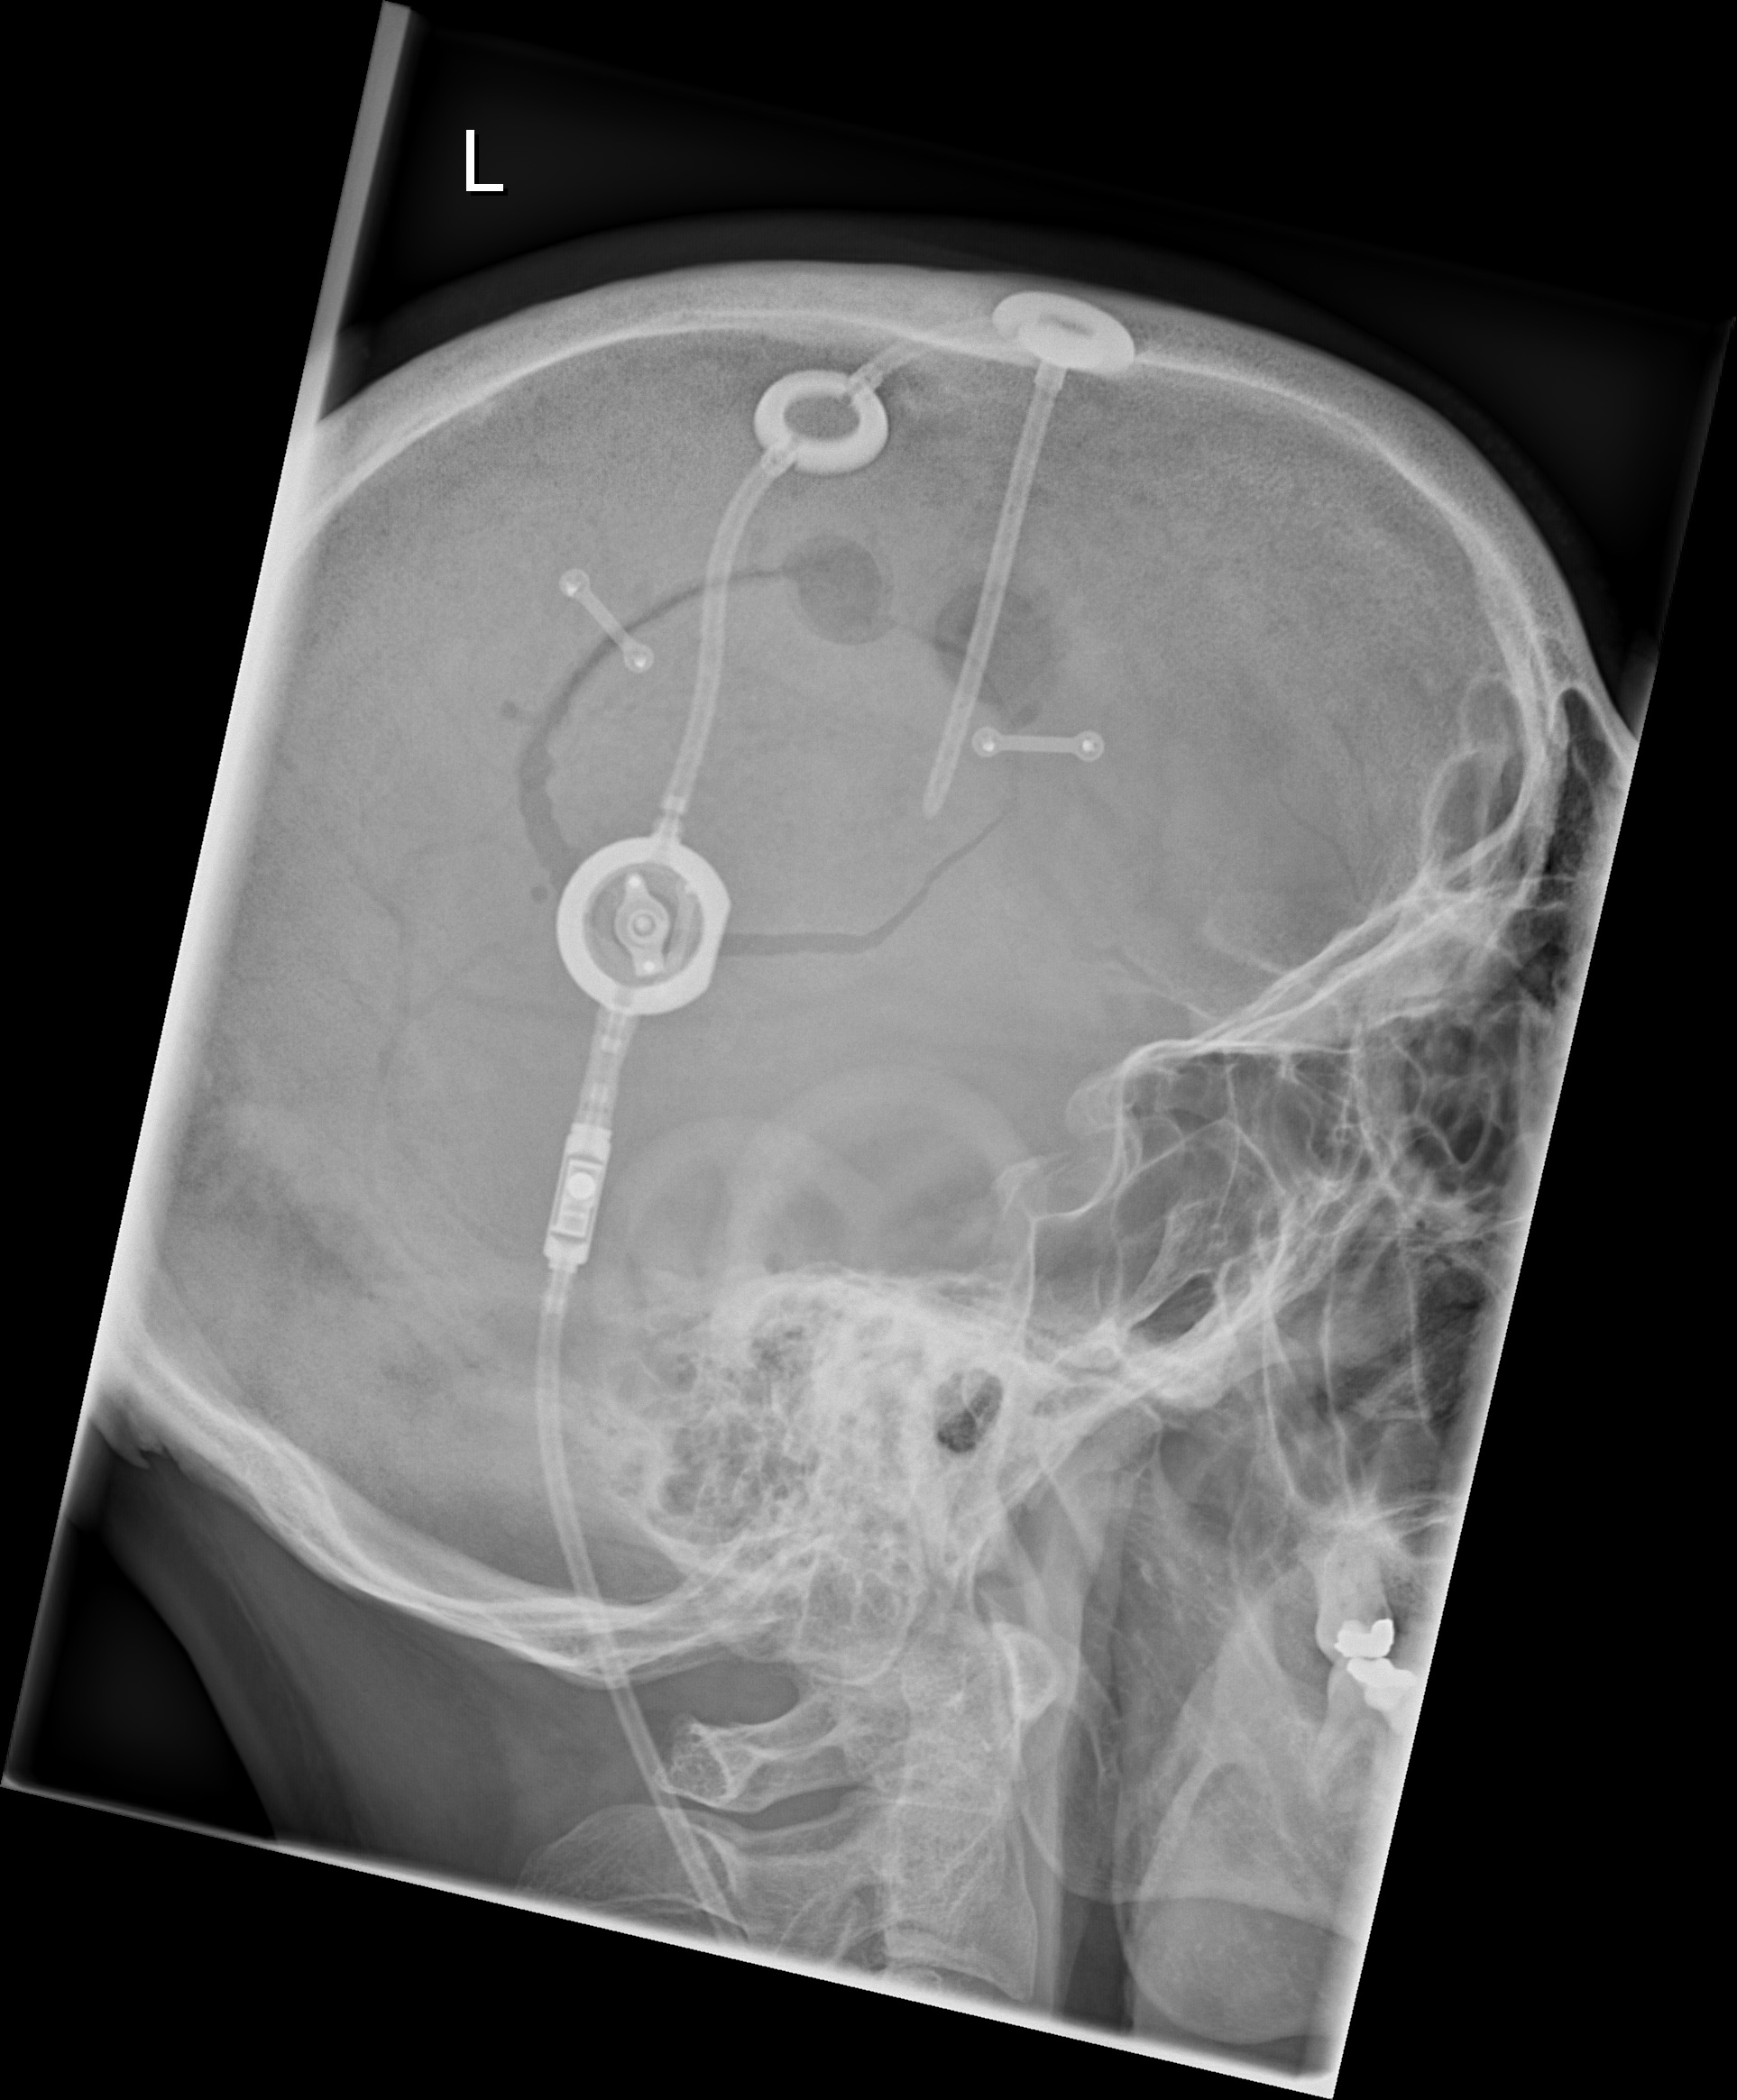proGAV: (546, 825, 738, 1029)
proGAV Gravitationseinheit: (534, 1115, 619, 1285)
